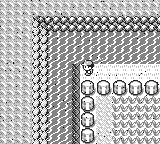captura: (47, 31, 160, 143), (112, 96, 160, 143)
main: (81, 61, 94, 75)
mo: (72, 64, 80, 143)
no-caminable: (1, 0, 160, 143), (80, 81, 160, 143)
